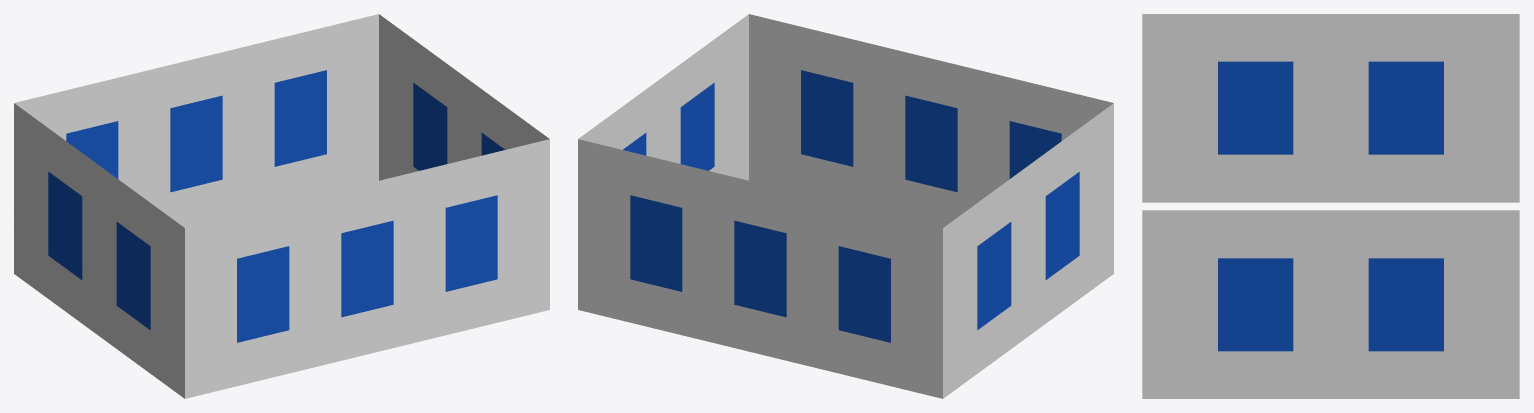
File: CityBuildingC_01_floor.fbx
3 views of the same model, side by side, from view 1: azimuth 30°, elevation 25°; view 2: azimuth 150°, elevation 25°; view 3: azimuth 270°, elevation 25° (orthographic). The views are drawn at different scales.
Visible parts, largest first — view 1: CityBuildingC_01_floor; view 2: CityBuildingC_01_floor; view 3: CityBuildingC_01_floor.
Part boxes in pixels (x1,y1,x2,y2): CityBuildingC_01_floor: (14,14,549,398); CityBuildingC_01_floor: (578,14,1113,398); CityBuildingC_01_floor: (1142,14,1519,398).
Bounding box in the file's own units: 0.6706 × 0.3 × 0.5438.
